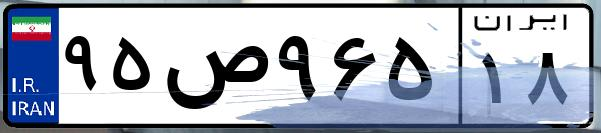1: (475, 38, 525, 113)
5: (385, 28, 445, 110), (110, 28, 158, 98)
6: (330, 28, 385, 110)
8: (525, 38, 570, 115)
9: (270, 28, 330, 110), (57, 26, 110, 100)
ص: (158, 20, 270, 120)
